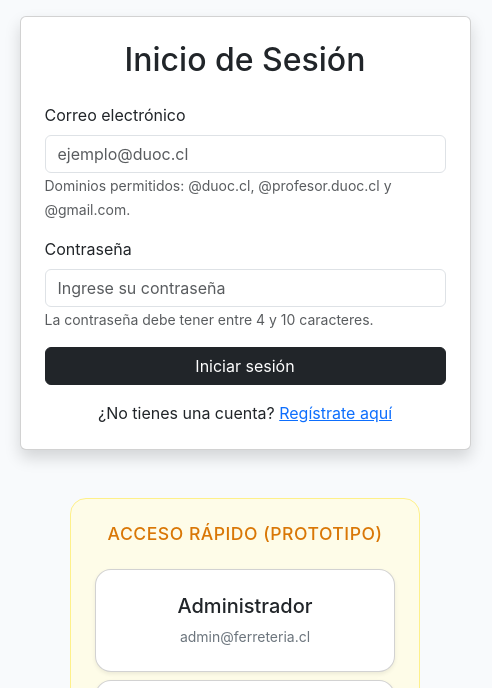
Pruebas del módulo Acceso, Formularios y Cliente - Benjamin › debe iniciar sesión con credenciales correctas
This screenshot has width=492, height=688.
Step 1. Type "prueba@gmail.com" into the field labelled "Correo electrónico" → (245, 154), box [44,135,446,173]
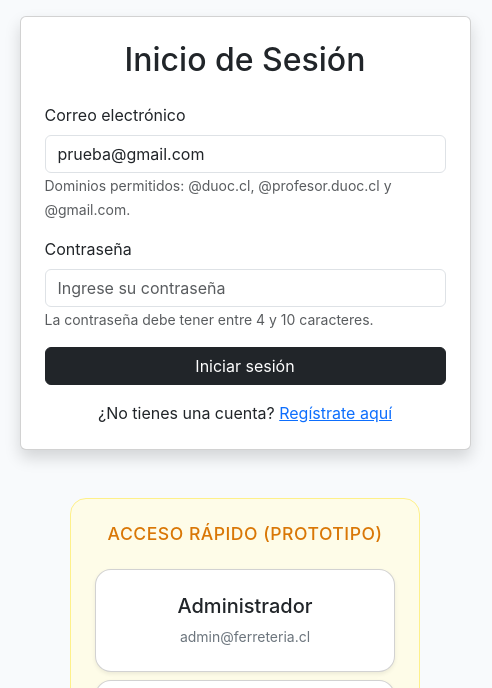
Step 2. Type "123456" into the password field labelled "Contraseña" → (245, 288), box [44,269,446,307]
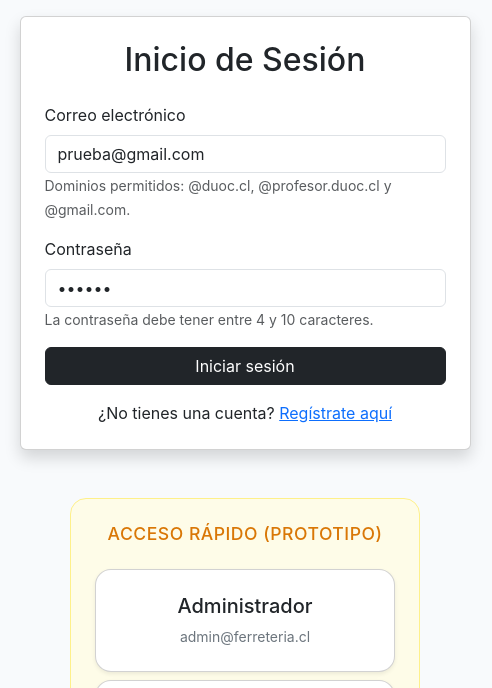
Step 3. Click the button "Iniciar sesión" → (245, 366), box [44,347,446,385]
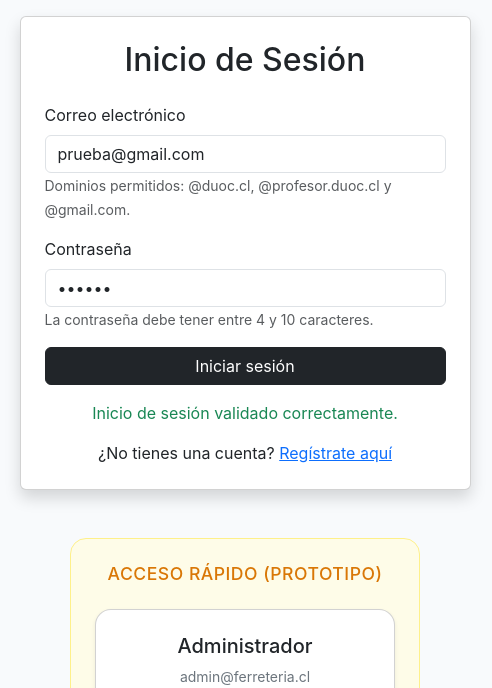
expect the text "Inicio de sesión validado correctamente." is shown: met, box [92,403,398,423]
